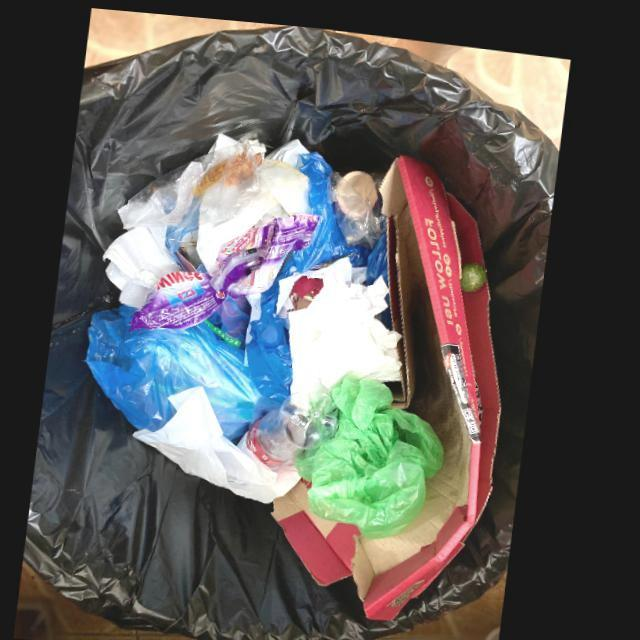cardboard: (278, 144, 506, 611)
food_wrapper: (122, 129, 273, 225)
paper: (140, 380, 309, 497), (294, 249, 408, 389)
plastic_bag: (92, 144, 395, 438), (301, 368, 452, 531)
plastic_bottle: (254, 385, 346, 459)
plastic_sachet: (136, 207, 323, 327)
